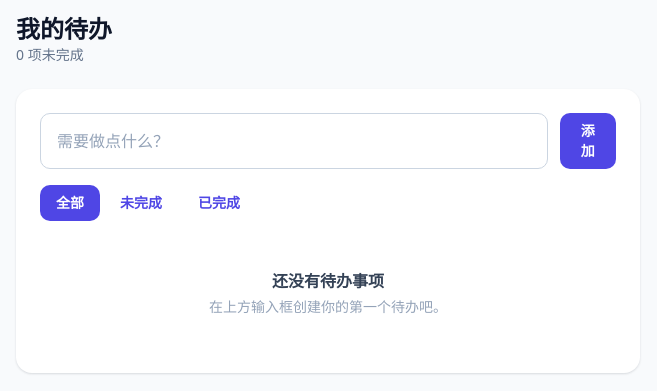
Test: 待办管理交互 (todo-management, 第 7 组) › adds a new active todo when a non-empty title is submitted (7.1)
expect the element with test id "empty-state" is shown: met, box [209,270,447,316]
Type "买牛奶" into the field named "新待办标题" at (294, 141), box [40,113,548,169]
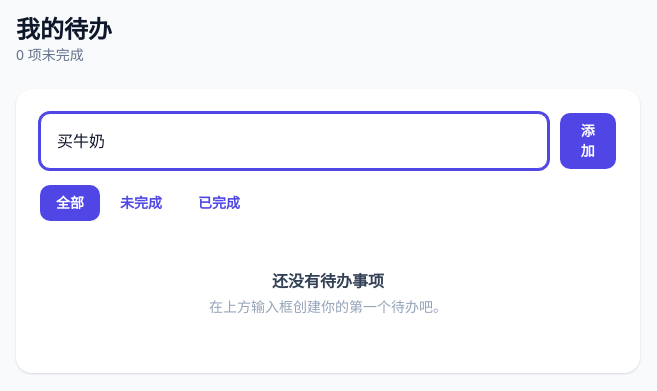
Click the button "添加" at (588, 141), box [560,113,616,169]
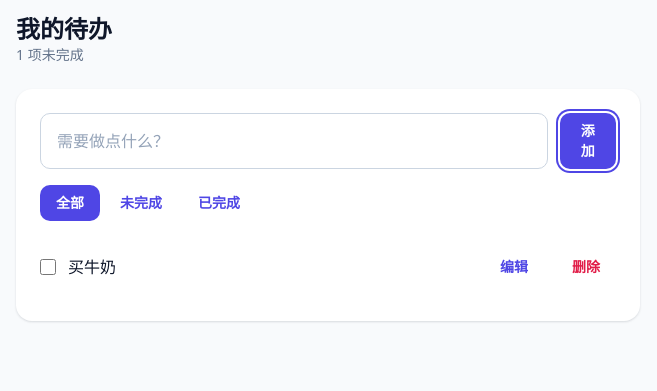
expect the text "买牛奶" is shown: met, box [68,256,116,278]
expect the field named "新待办标题" is empty: met, box [40,113,548,169]
